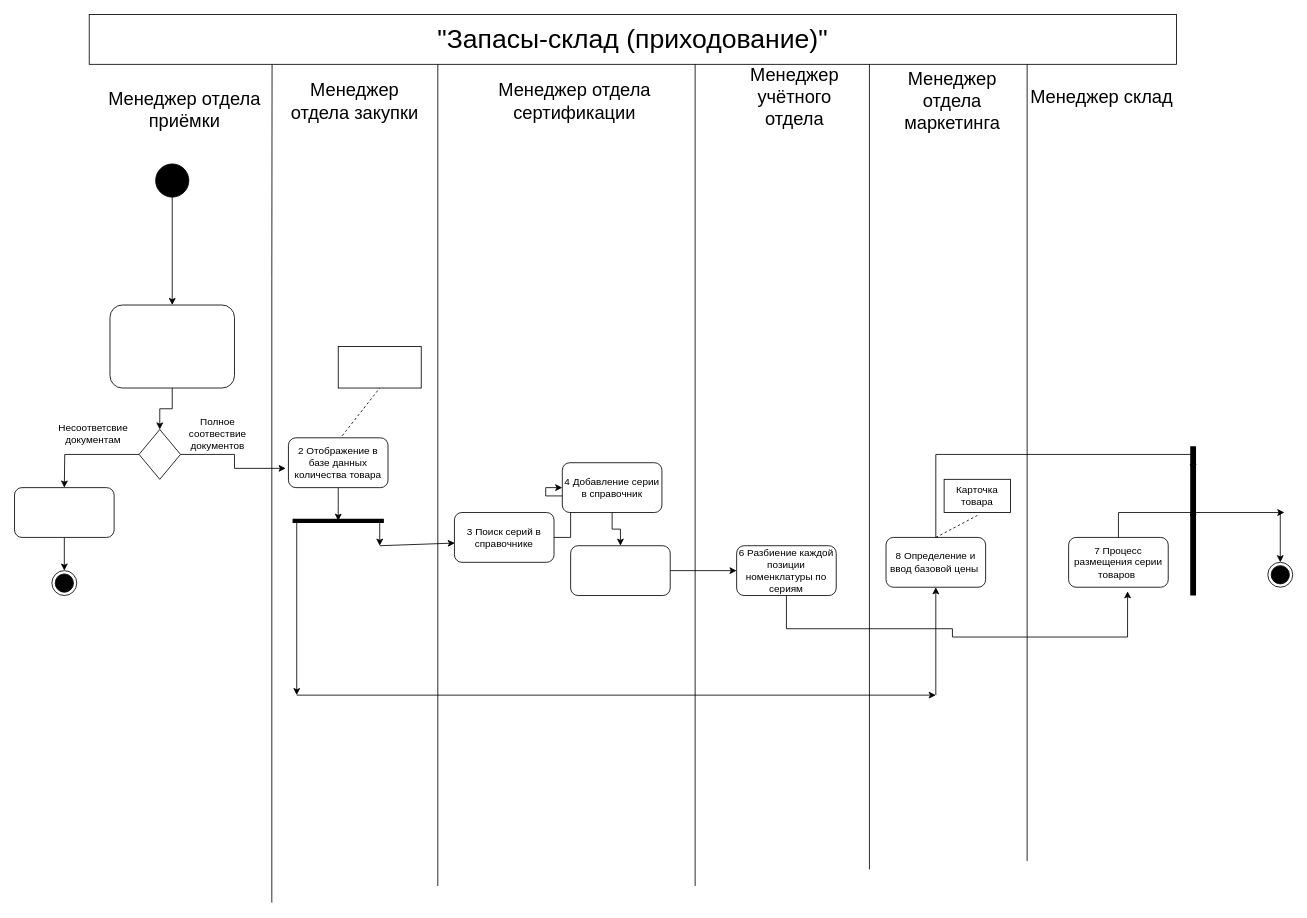
This 1307x918 diagram has some shape labels left out. Each missing label, with the centre of its shape:
"1 проверка товара по количеству, серийному соответствию, сроку годности" belongs at point 171,346.
"5 Процесс сертификации" belongs at point 620,570.
"выявление виновных лиц и предъявление претензий" belongs at point 64,512.
"Приходная накладная" belongs at point 379,367.
